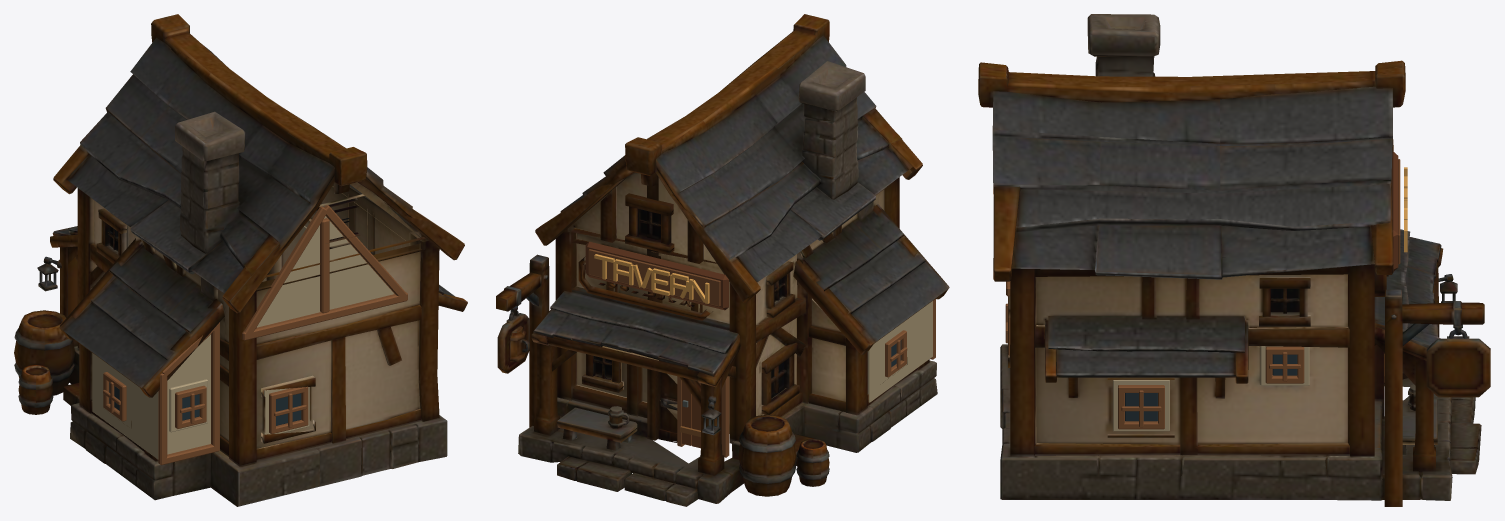
File: Tavern.glb
3 renders of one model, left to right at view 1: azimuth 30°, elevation 25°; view 2: azimuth 150°, elevation 25°; view 3: azimuth 270°, elevation 25°, orthographic. The views are drawn at different scales.
Parts seen in each view (by area): view 1: TavernShell, TavernRepairs; view 2: TavernShell, TavernRepairs, TavernDoor; view 3: TavernShell, TavernRepairs.
Part boxes in pixels (left/top/right/bottom): TavernShell: left=14, top=14, right=467, bottom=506; TavernRepairs: left=92, top=205, right=407, bottom=465; TavernShell: left=496, top=14, right=949, bottom=506; TavernRepairs: left=585, top=241, right=935, bottom=457; TavernDoor: left=680, top=381, right=700, bottom=448; TavernShell: left=978, top=14, right=1490, bottom=506; TavernRepairs: left=1005, top=151, right=1407, bottom=431.
Bounding box in the file's own units: 8.13 × 8.22 × 10.
Materials: 10 (1 with a texture image).
